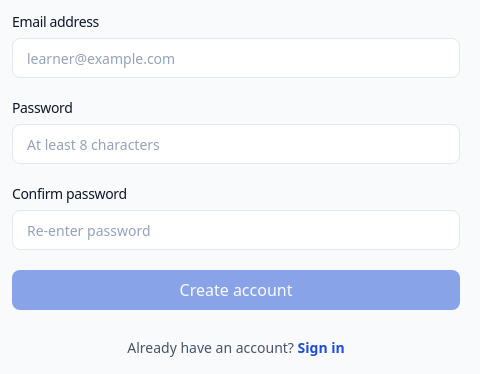
Test: SignupForm Component › enables submit button only when all fields are populated
Type "newuser@example.com" into the field labelled "Email address" at (236, 58), box [12,38,460,78]
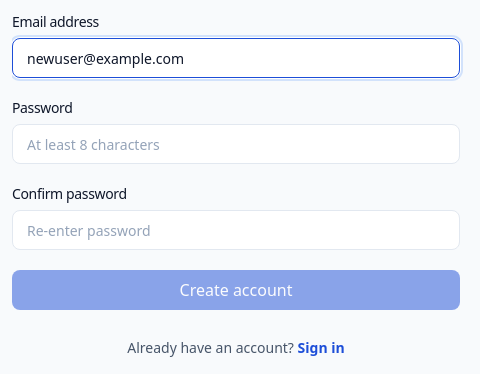
Expected: the button "Create account" is disabled, [12,270,460,310]
Type "Password123!" into the password field labelled "Password" at (236, 144), box [12,124,460,164]
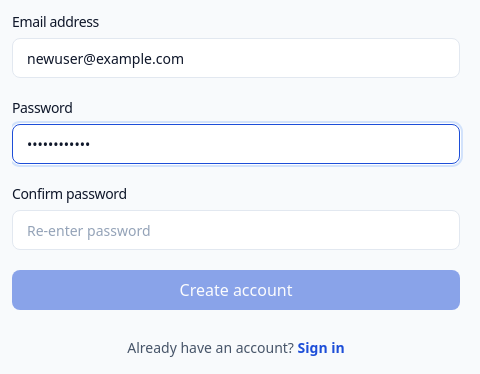
Expected: the button "Create account" is disabled, [12,270,460,310]
Type "Password123!" into the password field labelled "Confirm password" at (236, 230), box [12,210,460,250]
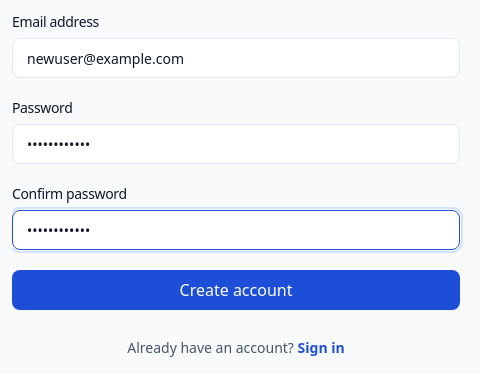
Expected: the button "Create account" is enabled, [12,270,460,310]
